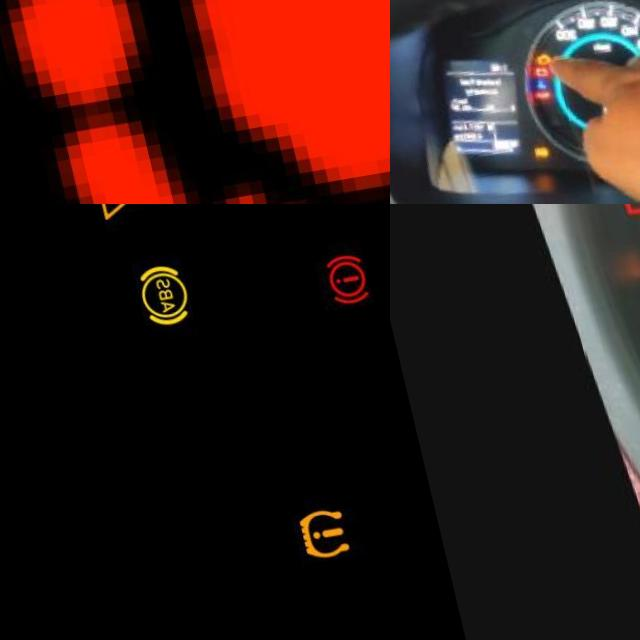High Engine Coolant Temperature: (532, 94, 547, 107)
